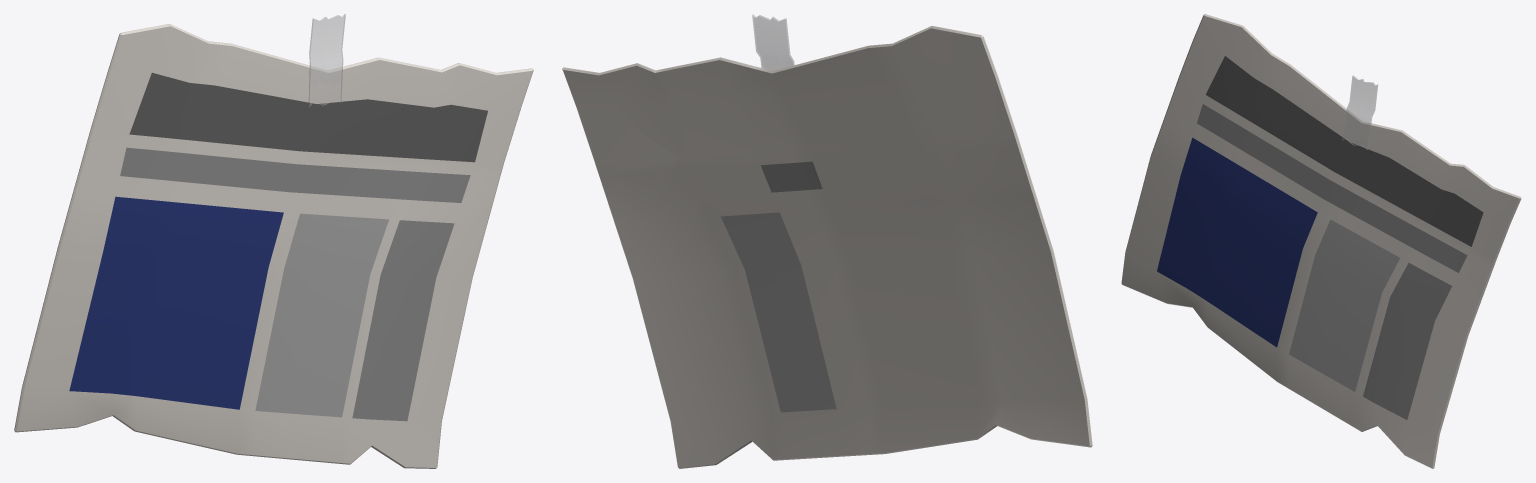
The model's file is Newspaper_Clipping.fbx.
3 views of the same model, side by side, from view 1: azimuth 30°, elevation 25°; view 2: azimuth 150°, elevation 25°; view 3: azimuth 330°, elevation 25° (orthographic). The views are drawn at different scales.
Parts seen in each view (by area): view 1: pasted__pCube3; view 2: pasted__pCube3; view 3: pasted__pCube3.
Part boxes in pixels (x1=…): pasted__pCube3: x1=14, y1=14, x2=533, y2=468; pasted__pCube3: x1=562, y1=14, x2=1092, y2=468; pasted__pCube3: x1=1121, y1=14, x2=1521, y2=468.
Size of the model in its own units: 0.4759 by 0.4421 by 0.0255.
